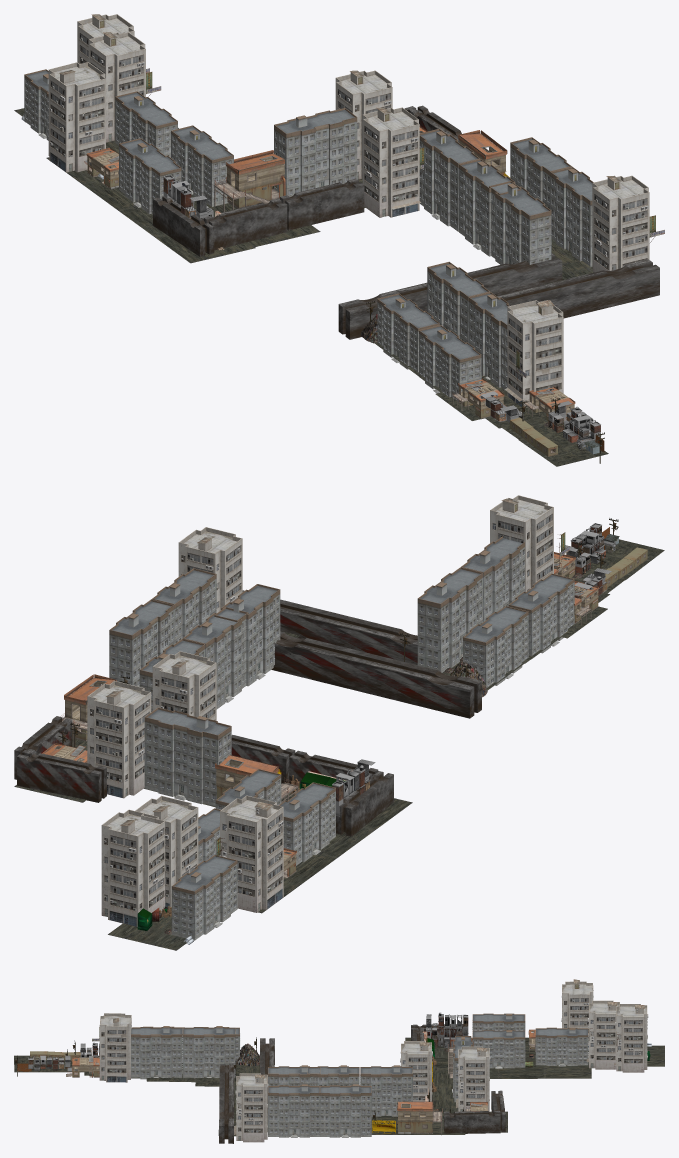
3 renders of one model, top to bottom at view 1: azimuth 30°, elevation 25°; view 2: azimuth 150°, elevation 25°; view 3: azimuth 270°, elevation 25°, orthographic. The views are drawn at different scales.
Visible parts, largest first — view 1: BUILDING (×21), Cube_Low (×6), Plane (×4), 2ND Building (×2), 1ST Building, 3 Sets; view 2: BUILDING (×21), Cube_Low (×7), Plane (×2), 2ND Building (×2); view 3: BUILDING (×18), Plane (×5), Cube_Low (×5), 2ND Building, 1ST Building, SM_Dump_1_1, Cube.005.
Boxes of the visible parts, bbox=[...] form: BUILDING (×21): bbox=[24, 14, 649, 407]; Cube_Low (×6): bbox=[153, 105, 659, 339]; Plane (×4): bbox=[46, 128, 608, 466]; 2ND Building (×2): bbox=[226, 130, 507, 190]; 1ST Building: bbox=[227, 180, 283, 208]; 3 Sets: bbox=[214, 176, 285, 212]; BUILDING (×21): bbox=[87, 495, 574, 940]; Cube_Low (×7): bbox=[14, 590, 481, 836]; Plane (×2): bbox=[108, 798, 412, 950]; 2ND Building (×2): bbox=[64, 674, 278, 788]; BUILDING (×18): bbox=[99, 979, 647, 1142]; Plane (×5): bbox=[195, 1045, 664, 1134]; Cube_Low (×5): bbox=[219, 1024, 505, 1143]; 2ND Building: bbox=[397, 1101, 433, 1121]; 1ST Building: bbox=[397, 1117, 432, 1133]; SM_Dump_1_1: bbox=[236, 1043, 259, 1066]; Cube.005: bbox=[372, 1120, 395, 1133].
Size of the model in its own units: 105 by 28.9 by 266.
Materials: 60 (58 with a texture image).
